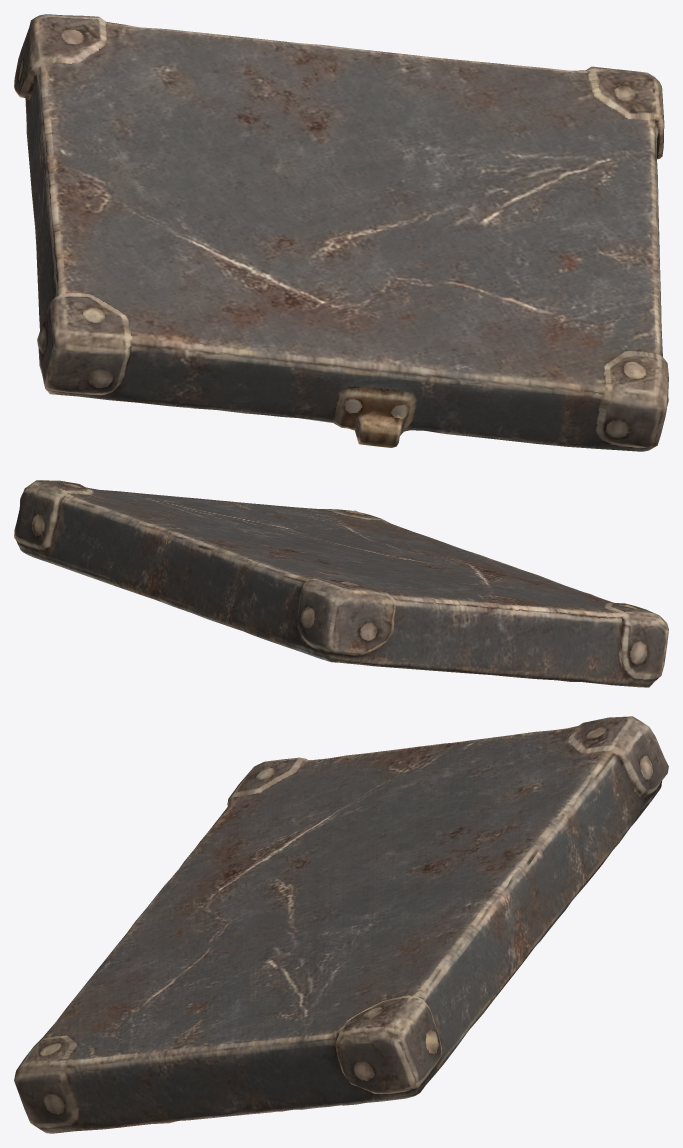
The model's file is bunker_supply_chest_lid_raw.glb.
3 views of the same model, one above another, from view 1: azimuth 30°, elevation 25°; view 2: azimuth 150°, elevation 25°; view 3: azimuth 270°, elevation 25° (orthographic). The views are drawn at different scales.
Bounding box in the file's own units: 0.932 × 0.3745 × 0.8114.
1 material, 1 textured.
